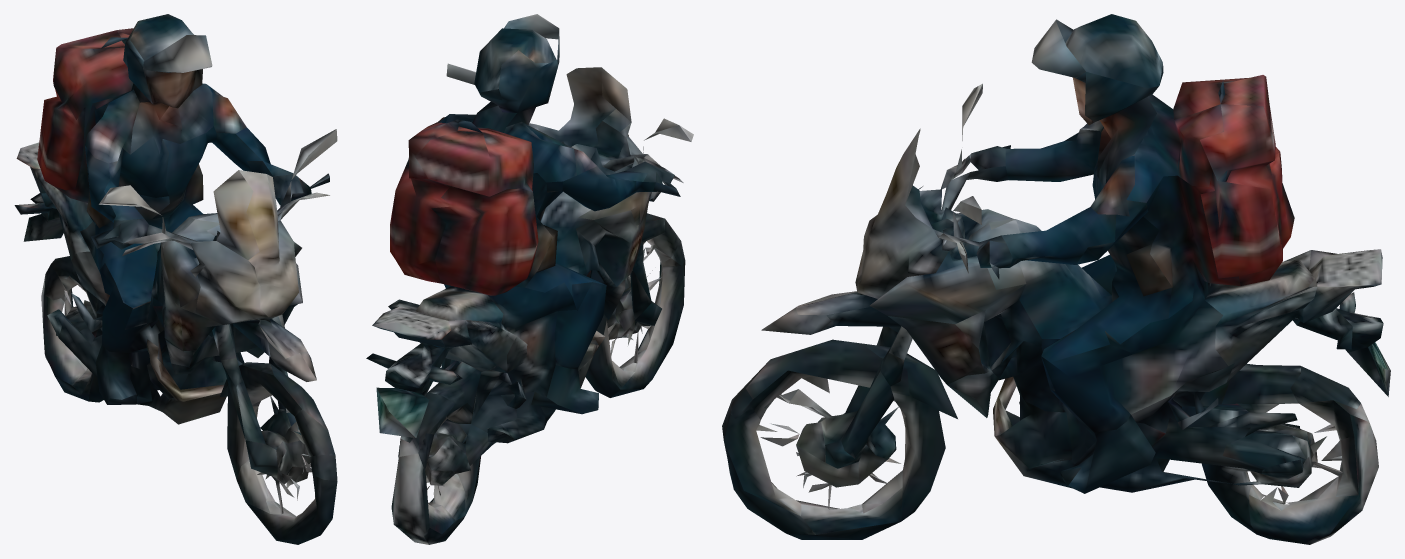
File: motor_dokkes_lod2.glb
3 views of the same model, side by side, from view 1: azimuth 30°, elevation 25°; view 2: azimuth 150°, elevation 25°; view 3: azimuth 270°, elevation 25° (orthographic). The views are drawn at different scales.
Parts seen in each view (by area): view 1: tripo_node_6da6d6cb; view 2: tripo_node_6da6d6cb; view 3: tripo_node_6da6d6cb.
Part boxes in pixels (bbox=[...]): tripo_node_6da6d6cb: bbox=[14, 14, 337, 544]; tripo_node_6da6d6cb: bbox=[366, 14, 693, 544]; tripo_node_6da6d6cb: bbox=[722, 14, 1390, 544].
Bounding box in the file's own units: 48.85 × 84.85 × 99.55.
Materials: 1 (1 with a texture image).
